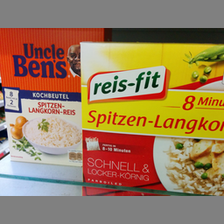rice: (79, 41, 224, 195), (1, 28, 106, 167)
